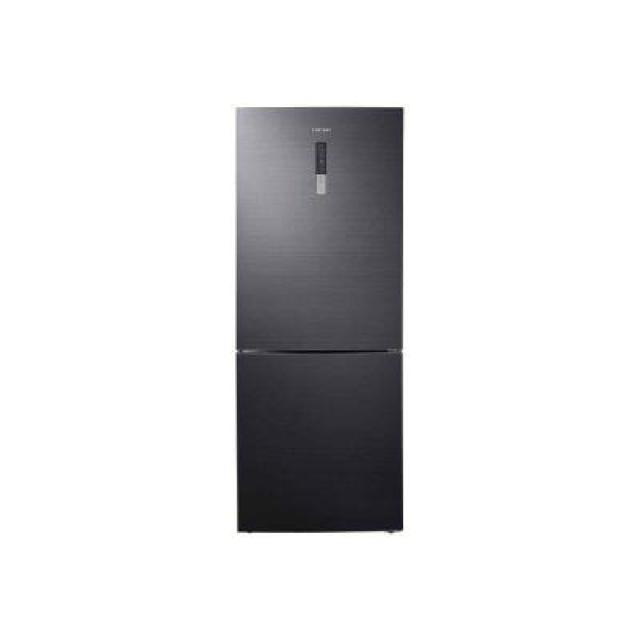refrigerator: (232, 105, 402, 532)
